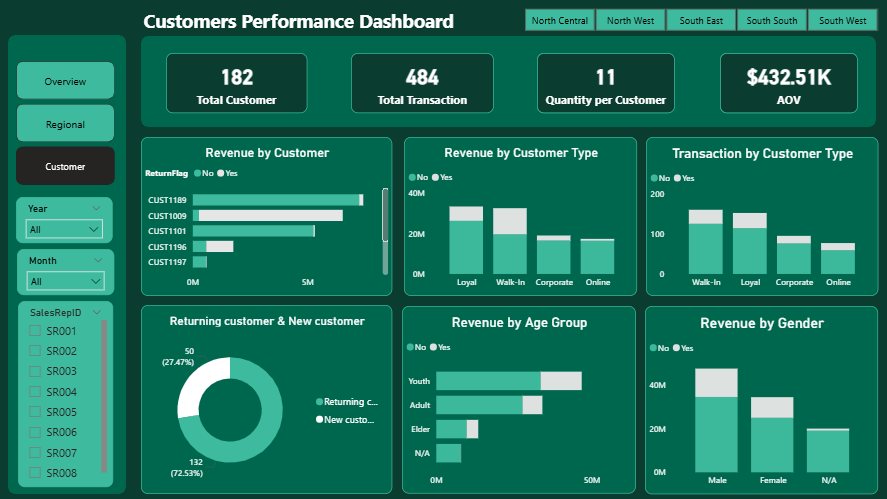

The dashboard page shown, as its layout file describes it:
{"tool":"powerbi","page":{"name":"Customer","canvas":[1280,720],"ordinal":2},"visuals":[{"type":"shape","box":[204,56,1050,130],"z":0},{"type":"card","fields":{"Values":["Measure.Total Customer"]},"box":[240,80,202,86],"z":1000},{"type":"card","fields":{"Values":["CountNonNull(Nigerian_Retail_Sales_Raw11111.TransactionID)"]},"box":[504,80,204,86],"z":2000},{"type":"card","fields":{"Values":["Measure.Revenue"]},"box":[770,80,196,86],"z":3000},{"type":"card","fields":{"Values":["Measure.Return Rate"]},"box":[1032,80,196,86],"z":4000},{"type":"pageNavigator","box":[14,166,120,142],"z":5000},{"type":"textbox","box":[203.3,10,503.3,46.7],"z":6000},{"type":"shape","box":[14.3,54.3,168.6,655.7],"z":7000},{"type":"pageNavigator","box":[25,91.2,141.2,178.8],"z":8000},{"type":"slicer","fields":{"Values":["Date.Year Hierarchy.Year"]},"box":[26.3,285.3,138,66],"z":9000},{"type":"slicer","fields":{"Values":["Nigerian_Retail_Sales_Raw11111.SalesRepID"]},"box":[28.6,434.4,135.9,266.4],"z":10000},{"type":"slicer","fields":{"Values":["Nigerian_Retail_Sales_Raw11111.Region"]},"box":[726.7,10,553.3,45],"z":11000},{"type":"slicer","fields":{"Values":["LocalDateTable_c215ab01-d81c-4b8d-8ac1-980cf39dec1b.Month"]},"box":[26.8,359.3,139.4,66.1],"z":12000},{"type":"barChart","title":"Revenue by Age Group","fields":{"Category":["Nigerian_Retail_Sales_Raw11111.Age_Category"],"Y":["Sum(Nigerian_Retail_Sales_Raw11111.TotalSales_NGN)"],"Series":["Nigerian_Retail_Sales_Raw11111.ReturnFlag"]},"box":[577.3,441.2,333.8,268.4],"z":13000},{"type":"columnChart","title":"Revenue by Gender","fields":{"Category":["Nigerian_Retail_Sales_Raw11111.Gender"],"Y":["Sum(Nigerian_Retail_Sales_Raw11111.TotalSales_NGN)"],"Series":["Nigerian_Retail_Sales_Raw11111.ReturnFlag"]},"box":[924.3,441.4,332.9,268.6],"z":14000},{"type":"barChart","title":"Revenue by Customer","fields":{"Y":["Sum(Nigerian_Retail_Sales_Raw11111.TotalSales_NGN)"],"Category":["Nigerian_Retail_Sales_Raw11111.CustomerID"],"Series":["Nigerian_Retail_Sales_Raw11111.ReturnFlag"]},"box":[203.8,200.2,359.3,227],"z":15000},{"type":"columnChart","title":"Revenue by Customer Type","fields":{"Y":["Sum(Nigerian_Retail_Sales_Raw11111.TotalSales_NGN)"],"Category":["Nigerian_Retail_Sales_Raw11111.CustomerType"],"Series":["Nigerian_Retail_Sales_Raw11111.ReturnFlag"]},"box":[580,200,333.3,226.7],"z":16000},{"type":"columnChart","title":"Transaction by Customer Type","fields":{"Category":["Nigerian_Retail_Sales_Raw11111.CustomerType"],"Y":["CountNonNull(Nigerian_Retail_Sales_Raw11111.ReturnFlag)"],"Series":["Nigerian_Retail_Sales_Raw11111.ReturnFlag"]},"box":[925,200,331.7,226.7],"z":17000},{"type":"card","fields":{"Values":["Measure.AOV"]},"box":[1031.5,80.4,196.6,85.8],"z":18000},{"type":"card","fields":{"Values":["Measure.Quantity per Customer"]},"box":[770.5,80.4,196.6,85.8],"z":19000},{"type":"donutChart","title":"Returning customer & New customer","fields":{"Y":["Measure.Returning customer","Measure.New customer"]},"box":[204.3,440,358.6,270],"z":20000}]}

Visuals, with their boxes in screenshot pixels (x1, y1, x2, y2), scaled from the page's 1280x720 canvas onto the 887x499 screenshot:
shape: select_region(141, 39, 869, 129)
card - Measure.Total Customer: select_region(166, 55, 306, 115)
card - CountNonNull(Nigerian_Retail_Sales_Raw11111.TransactionID): select_region(349, 55, 491, 115)
card - Measure.Revenue: select_region(534, 55, 669, 115)
card - Measure.Return Rate: select_region(715, 55, 851, 115)
pageNavigator: select_region(10, 115, 93, 213)
textbox: select_region(141, 7, 490, 39)
shape: select_region(10, 38, 127, 492)
pageNavigator: select_region(17, 63, 115, 187)
slicer - Date.Year Hierarchy.Year: select_region(18, 198, 114, 243)
slicer - Nigerian_Retail_Sales_Raw11111.SalesRepID: select_region(20, 301, 114, 486)
slicer - Nigerian_Retail_Sales_Raw11111.Region: select_region(504, 7, 886, 38)
slicer - LocalDateTable_c215ab01-d81c-4b8d-8ac1-980cf39dec1b.Month: select_region(19, 249, 115, 295)
"Revenue by Age Group" barChart: select_region(400, 306, 631, 492)
"Revenue by Gender" columnChart: select_region(641, 306, 871, 492)
"Revenue by Customer" barChart: select_region(141, 139, 390, 296)
"Revenue by Customer Type" columnChart: select_region(402, 139, 633, 296)
"Transaction by Customer Type" columnChart: select_region(641, 139, 871, 296)
card - Measure.AOV: select_region(715, 56, 851, 115)
card - Measure.Quantity per Customer: select_region(534, 56, 670, 115)
"Returning customer & New customer" donutChart: select_region(142, 305, 390, 492)
